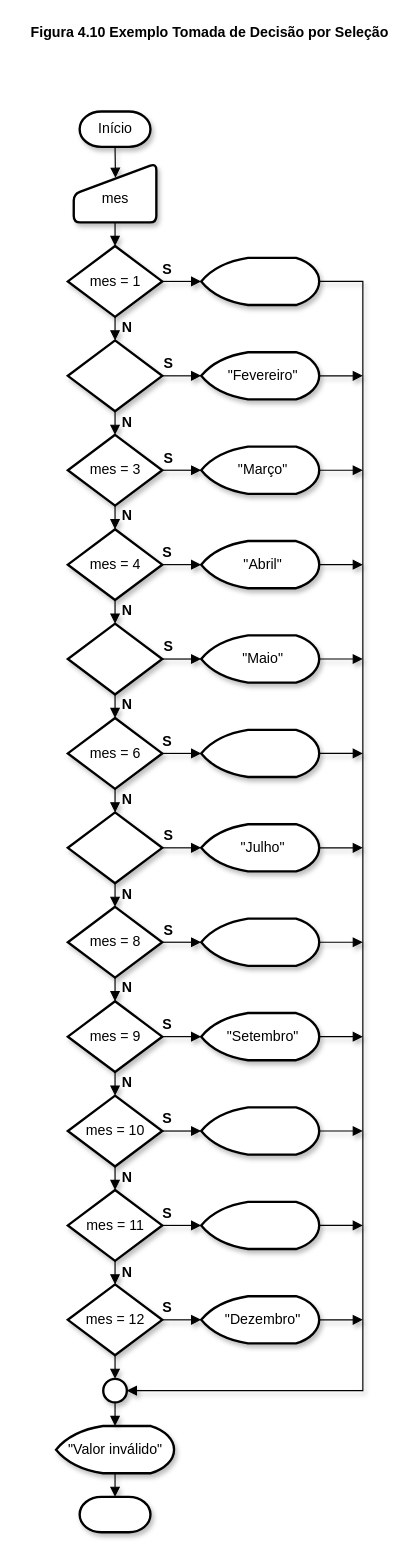
This 418x1561 diagram has some shape labels left out. The shapes that lost their labels are listed below. From the top down, each one's centre as x and y in pixels, then its label:
pixel 261 282: '"Janeiro"
pixel 115 377: mes = 2
pixel 115 660: mes = 5
pixel 261 754: "Junho"
pixel 115 849: mes = 7
pixel 261 943: "Agosto"
pixel 261 1132: "Outubro"
pixel 261 1226: "Novembro"
pixel 115 1515: Fim
